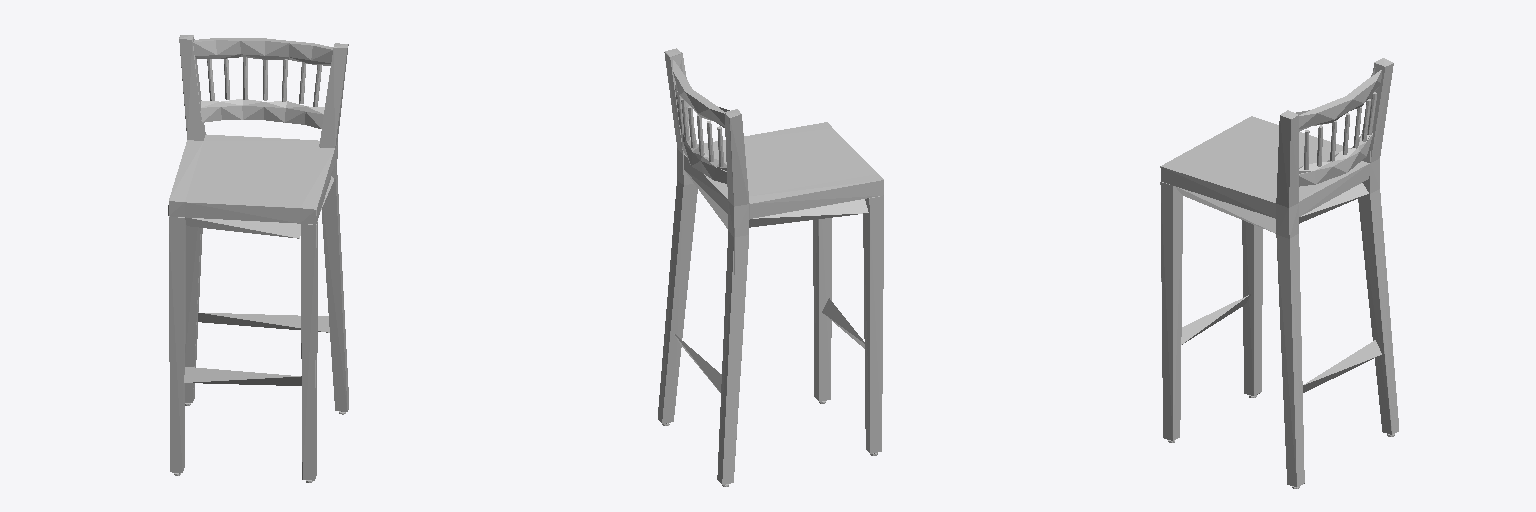
File: chair_d.obj
3 views of the same model, side by side, from view 1: azimuth 30°, elevation 25°; view 2: azimuth 150°, elevation 25°; view 3: azimuth 270°, elevation 25° (orthographic).
Visible parts, largest first — view 1: wood_stool.001_Cube.003, stool_support2_Cube.006; view 2: wood_stool.001_Cube.003, stool_support2_Cube.006; view 3: wood_stool.001_Cube.003, stool_support2_Cube.006.
Part boxes in pixels (bbox=[...]): wood_stool.001_Cube.003: bbox=[168, 35, 348, 482]; stool_support2_Cube.006: bbox=[193, 38, 333, 128]; wood_stool.001_Cube.003: bbox=[658, 48, 883, 486]; stool_support2_Cube.006: bbox=[672, 60, 729, 183]; wood_stool.001_Cube.003: bbox=[1160, 58, 1398, 488]; stool_support2_Cube.006: bbox=[1296, 67, 1381, 186].
Bounding box in the file's own units: 0.6189 × 1.08 × 0.6283.